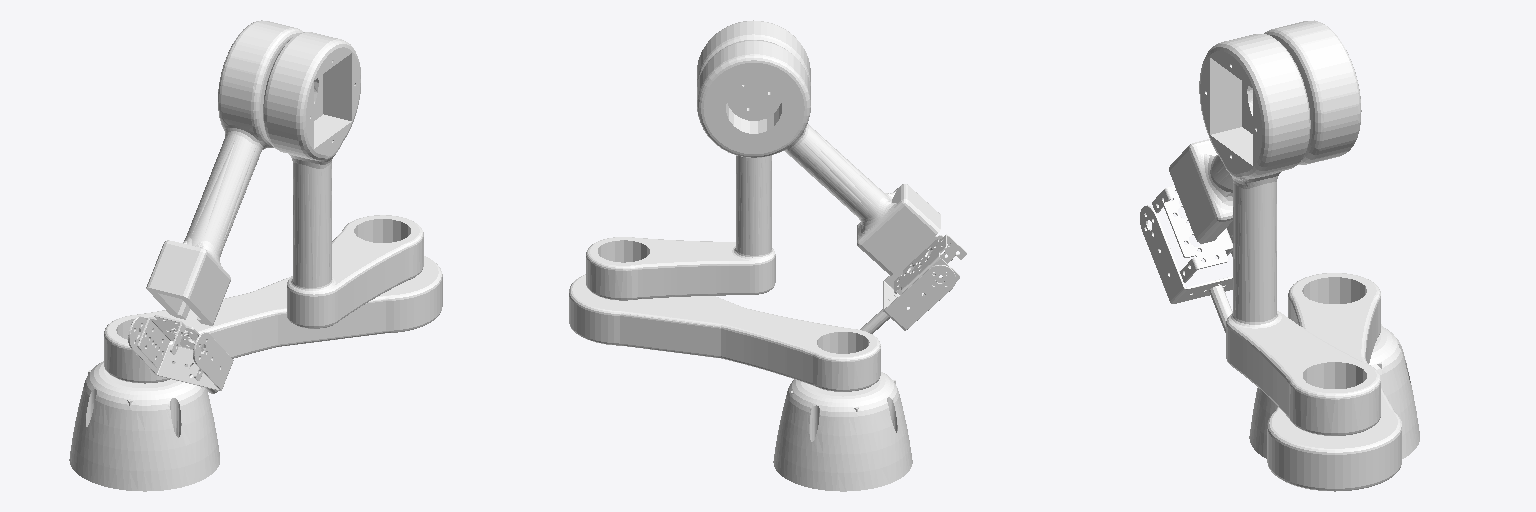
The robot description file, URDF, robot "Robotics ARm.SLDASM":
<?xml version="1.0" encoding="utf-8"?>
<!-- This URDF was automatically created by SolidWorks to URDF Exporter! Originally created by Stephen Brawner (brawner@gmail.com) 
     Commit Version: 1.6.0-1-g15f4949  Build Version: 1.6.7594.29634
     For more information, please see http://wiki.ros.org/sw_urdf_exporter -->
<robot
  name="Robotics ARm.SLDASM">
  <link
    name="base_link">
    <inertial>
      <origin
        xyz="-6.2091E-07 -2.0803E-07 0.03684"
        rpy="0 0 0" />
      <mass
        value="0.19876" />
      <inertia
        ixx="0.00027879"
        ixy="3.066E-10"
        ixz="-2.8839E-09"
        iyy="0.00027881"
        iyz="1.7174E-09"
        izz="0.00037557" />
    </inertial>
    <visual>
      <origin
        xyz="0 0 0"
        rpy="0 0 0" />
      <geometry>
        <mesh
          filename="package://Robotics ARm.SLDASM/meshes/base_link.STL" />
      </geometry>
      <material
        name="">
        <color
          rgba="1 1 1 1" />
      </material>
    </visual>
    <collision>
      <origin
        xyz="0 0 0"
        rpy="0 0 0" />
      <geometry>
        <mesh
          filename="package://Robotics ARm.SLDASM/meshes/base_link.STL" />
      </geometry>
    </collision>
  </link>
  <link
    name="Link_1">
    <inertial>
      <origin
        xyz="0.11311 2.6354E-07 0.014012"
        rpy="0 0 0" />
      <mass
        value="0.2771" />
      <inertia
        ixx="0.00015812"
        ixy="-1.3253E-08"
        ixz="-3.6214E-05"
        iyy="0.0020571"
        iyz="1.2096E-08"
        izz="0.0021618" />
    </inertial>
    <visual>
      <origin
        xyz="0 0 0"
        rpy="0 0 0" />
      <geometry>
        <mesh
          filename="package://Robotics ARm.SLDASM/meshes/Link_1.STL" />
      </geometry>
      <material
        name="">
        <color
          rgba="1 1 1 1" />
      </material>
    </visual>
    <collision>
      <origin
        xyz="0 0 0"
        rpy="0 0 0" />
      <geometry>
        <mesh
          filename="package://Robotics ARm.SLDASM/meshes/Link_1.STL" />
      </geometry>
    </collision>
  </link>
  <joint
    name="Joint_1"
    type="revolute">
    <origin
      xyz="0 0 0.074"
      rpy="0 0 0" />
    <parent
      link="base_link" />
    <child
      link="Link_1" />
    <axis
      xyz="0 0 -1" />
    <limit
      lower="0"
      upper="6.28"
      effort="0.57"
      velocity="31" />
  </joint>
  <link
    name="Link_2">
    <inertial>
      <origin
        xyz="0.079229 -0.00068237 0.10093"
        rpy="0 0 0" />
      <mass
        value="0.39142" />
      <inertia
        ixx="0.0023925"
        ixy="6.2334E-06"
        ixz="-0.00081246"
        iyy="0.0031163"
        iyz="2.1024E-05"
        izz="0.00083966" />
    </inertial>
    <visual>
      <origin
        xyz="0 0 0"
        rpy="0 0 0" />
      <geometry>
        <mesh
          filename="package://Robotics ARm.SLDASM/meshes/Link_2.STL" />
      </geometry>
      <material
        name="">
        <color
          rgba="1 1 1 1" />
      </material>
    </visual>
    <collision>
      <origin
        xyz="0 0 0"
        rpy="0 0 0" />
      <geometry>
        <mesh
          filename="package://Robotics ARm.SLDASM/meshes/Link_2.STL" />
      </geometry>
    </collision>
  </link>
  <joint
    name="Joint_2"
    type="revolute">
    <origin
      xyz="0.2 0 0.033"
      rpy="0 0 -2.618" />
    <parent
      link="Link_1" />
    <child
      link="Link_2" />
    <axis
      xyz="0 0 1" />
    <limit
      lower="0"
      upper="4.71"
      effort="0.57"
      velocity="31" />
  </joint>
  <link
    name="Link_3">
    <inertial>
      <origin
        xyz="0.046044 0.00029864 0.016784"
        rpy="0 0 0" />
      <mass
        value="0.37842" />
      <inertia
        ixx="0.00019779"
        ixy="-1.3253E-05"
        ixz="-1.0873E-05"
        iyy="0.0017145"
        iyz="-7.9146E-08"
        izz="0.0018358" />
    </inertial>
    <visual>
      <origin
        xyz="0 0 0"
        rpy="0 0 0" />
      <geometry>
        <mesh
          filename="package://Robotics ARm.SLDASM/meshes/Link_3.STL" />
      </geometry>
      <material
        name="">
        <color
          rgba="1 1 1 1" />
      </material>
    </visual>
    <collision>
      <origin
        xyz="0 0 0"
        rpy="0 0 0" />
      <geometry>
        <mesh
          filename="package://Robotics ARm.SLDASM/meshes/Link_3.STL" />
      </geometry>
    </collision>
  </link>
  <joint
    name="Joint_3"
    type="revolute">
    <origin
      xyz="0.10292 -0.0205 0.18044"
      rpy="1.5708 0.7854 0" />
    <parent
      link="Link_2" />
    <child
      link="Link_3" />
    <axis
      xyz="0 0 1" />
    <limit
      lower="0"
      upper="3.14"
      effort="0.57"
      velocity="31" />
  </joint>
  <link
    name="Link_4">
    <inertial>
      <origin
        xyz="5.5511E-17 -0.00087981 0.0061517"
        rpy="0 0 0" />
      <mass
        value="0.0055261" />
      <inertia
        ixx="1.2093E-06"
        ixy="-3.8646E-21"
        ixz="8.9997E-22"
        iyy="1.7956E-06"
        iyz="1.6184E-07"
        izz="2.3593E-06" />
    </inertial>
    <visual>
      <origin
        xyz="0 0 0"
        rpy="0 0 0" />
      <geometry>
        <mesh
          filename="package://Robotics ARm.SLDASM/meshes/Link_4.STL" />
      </geometry>
      <material
        name="">
        <color
          rgba="1 1 1 1" />
      </material>
    </visual>
    <collision>
      <origin
        xyz="0 0 0"
        rpy="0 0 0" />
      <geometry>
        <mesh
          filename="package://Robotics ARm.SLDASM/meshes/Link_4.STL" />
      </geometry>
    </collision>
  </link>
  <joint
    name="Joint_4"
    type="revolute">
    <origin
      xyz="0.19566 -0.010079 0.017341"
      rpy="-1.5708 0 -1.5708" />
    <parent
      link="Link_3" />
    <child
      link="Link_4" />
    <axis
      xyz="0 0 1" />
    <limit
      lower="0"
      upper="6.28"
      effort="0.57"
      velocity="31" />
  </joint>
  <link
    name="Link_5">
    <inertial>
      <origin
        xyz="0.043382 2.0817E-17 0"
        rpy="0 0 0" />
      <mass
        value="0.011523" />
      <inertia
        ixx="5.1842E-06"
        ixy="9.7409E-21"
        ixz="2.1176E-21"
        iyy="1.2521E-05"
        iyz="-3.5999E-21"
        izz="8.223E-06" />
    </inertial>
    <visual>
      <origin
        xyz="0 0 0"
        rpy="0 0 0" />
      <geometry>
        <mesh
          filename="package://Robotics ARm.SLDASM/meshes/Link_5.STL" />
      </geometry>
      <material
        name="">
        <color
          rgba="1 1 1 1" />
      </material>
    </visual>
    <collision>
      <origin
        xyz="0 0 0"
        rpy="0 0 0" />
      <geometry>
        <mesh
          filename="package://Robotics ARm.SLDASM/meshes/Link_5.STL" />
      </geometry>
    </collision>
  </link>
  <joint
    name="Joint_5"
    type="revolute">
    <origin
      xyz="-0.011 0.00327 0.0115"
      rpy="1.5708 0 0" />
    <parent
      link="Link_4" />
    <child
      link="Link_5" />
    <axis
      xyz="0 0 1" />
    <limit
      lower="0"
      upper="3.14"
      effort="0.57"
      velocity="31" />
  </joint>
</robot>

--- What the picture shows (computed from the rendered views, not written in the file) ---
The picture shows the robot from 3 angles, left to right: view 1: azimuth 30°, elevation 25°; view 2: azimuth 150°, elevation 25°; view 3: azimuth 270°, elevation 25°; orthographic projection.
Robot: Robotics ARm.SLDASM — 6 links, 5 joints (5 revolute); root link base_link; default pose: every joint at zero.
Links seen in each view (by area): view 1: Link_2, Link_3, base_link, Link_1, Link_5, Link_4; view 2: Link_3, Link_1, Link_2, base_link, Link_5, Link_4; view 3: Link_2, Link_1, Link_3, base_link, Link_5, Link_4.
Link boxes in pixels (x1,y1,x2,y2): Link_2: (263, 32, 423, 328); Link_3: (146, 20, 302, 325); base_link: (69, 361, 219, 491); Link_1: (104, 256, 442, 383); Link_5: (128, 316, 233, 393); Link_4: (137, 315, 203, 380); Link_3: (697, 40, 940, 275); Link_1: (569, 274, 880, 391); Link_2: (586, 20, 810, 300); base_link: (773, 372, 912, 491); Link_5: (860, 235, 955, 333); Link_4: (894, 234, 966, 295); Link_2: (1199, 34, 1380, 435); Link_1: (1267, 273, 1401, 491); Link_3: (1169, 20, 1361, 243); base_link: (1249, 324, 1419, 458); Link_5: (1140, 205, 1232, 332); Link_4: (1152, 186, 1232, 282).
Bounding box of the posed robot: 0.3022 × 0.1805 × 0.3324 m (x, y, z).
6 mesh visuals loaded from 6 distinct referenced files (6 binary STL).
